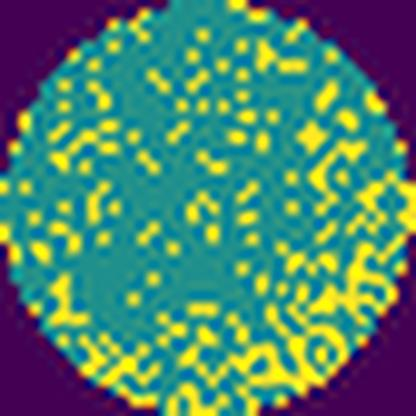Edge-Loc: (224, 281, 360, 401)
